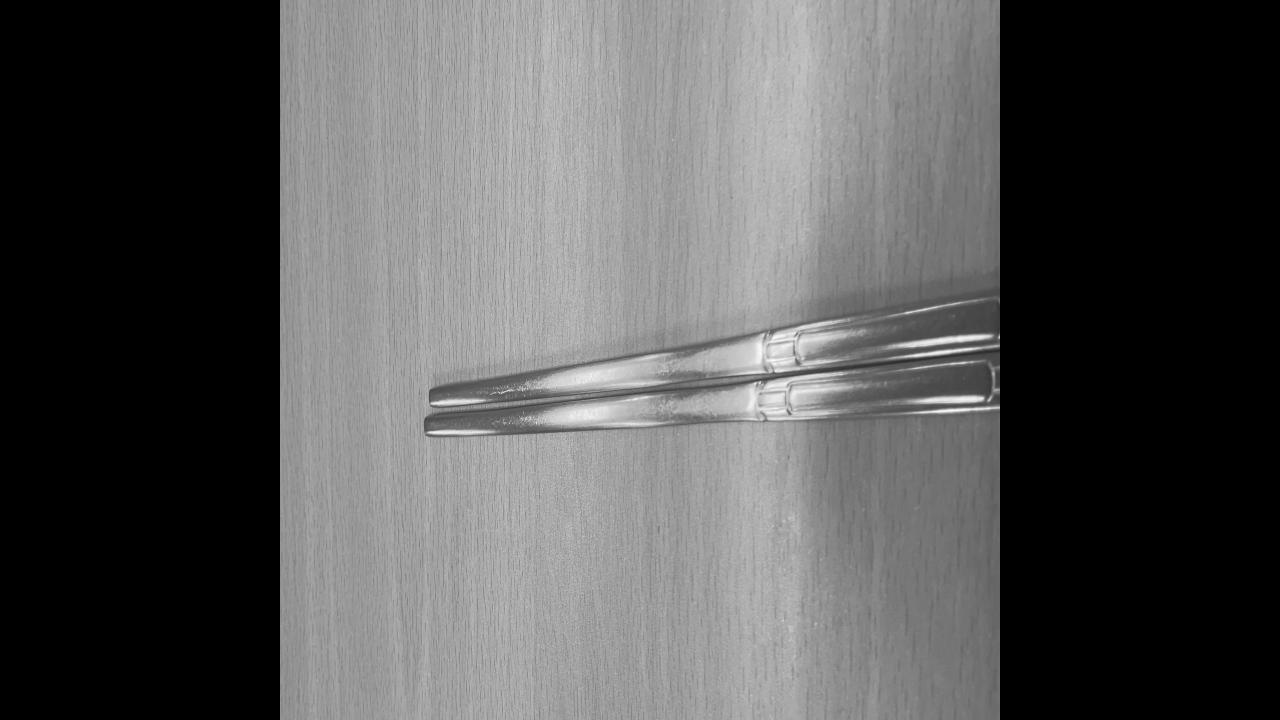chopstick: (424, 284, 999, 432)
